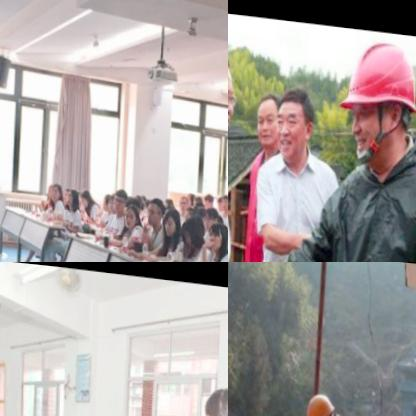head: (196, 371, 228, 416), (182, 210, 205, 242), (205, 213, 228, 244), (145, 188, 166, 219), (162, 200, 179, 233), (202, 196, 221, 223), (124, 196, 138, 223), (114, 181, 126, 207), (80, 181, 93, 203), (183, 197, 197, 217), (66, 182, 78, 204), (108, 187, 118, 207), (50, 177, 61, 195), (204, 182, 215, 200), (102, 186, 112, 203), (62, 180, 71, 198), (216, 186, 225, 204), (178, 187, 188, 202), (186, 182, 195, 198), (221, 185, 228, 201)
helmet: (334, 21, 416, 171), (301, 383, 339, 416)
